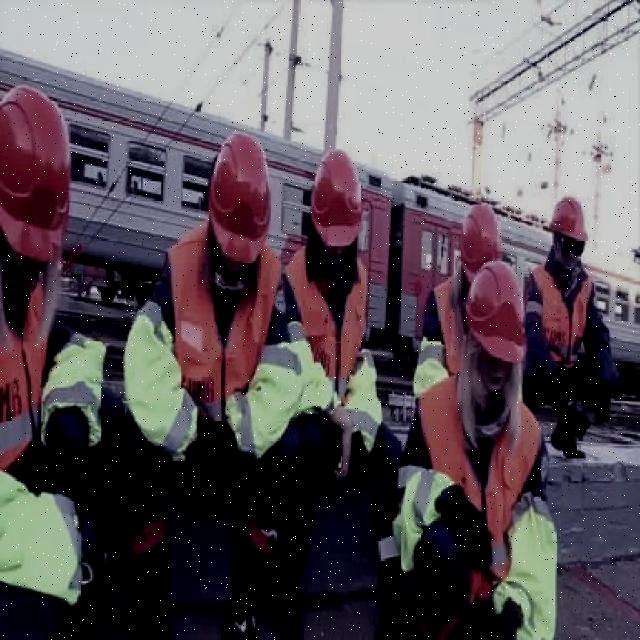Gloves: (440, 482, 498, 570), (184, 444, 219, 508), (203, 416, 234, 484)
Helmet: (0, 83, 72, 258), (210, 131, 273, 260), (467, 257, 530, 365), (311, 144, 364, 252), (458, 202, 500, 282), (548, 196, 590, 242)
Mask: (417, 372, 543, 572), (167, 223, 284, 423), (525, 262, 624, 470), (285, 240, 370, 398), (121, 300, 197, 466), (0, 462, 86, 606), (488, 478, 560, 638), (2, 279, 53, 464), (229, 344, 305, 466), (37, 323, 105, 457), (392, 456, 452, 581), (532, 262, 596, 364), (288, 317, 338, 425), (346, 346, 380, 454)
